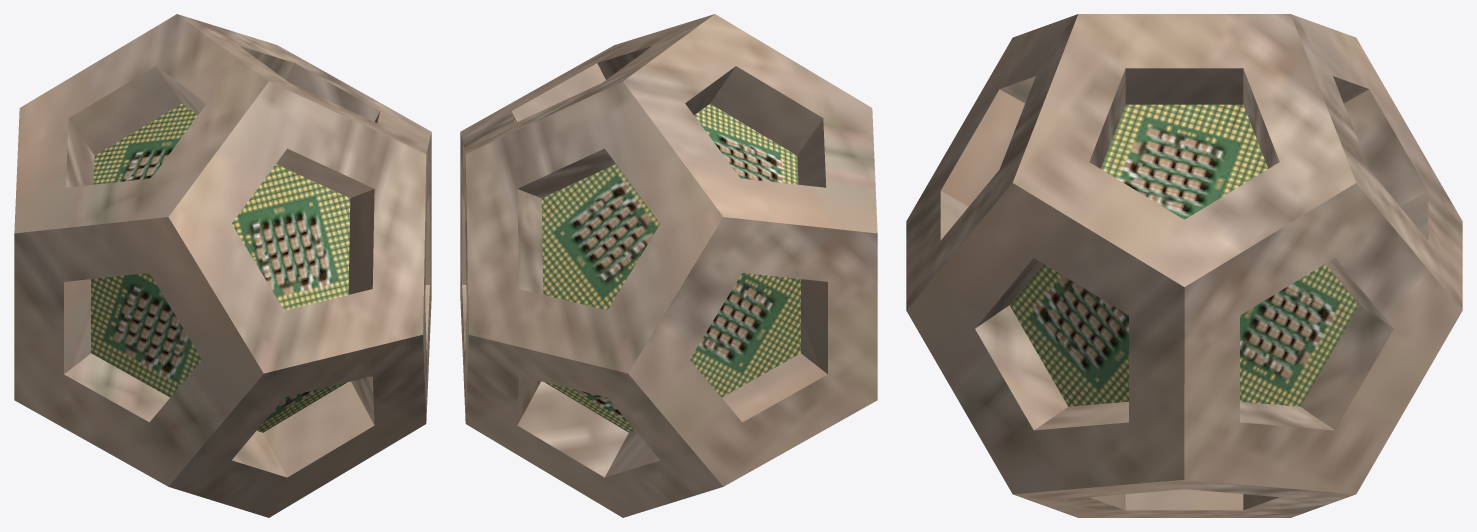
The model's file is dodecahedron_frame.fbx.
The picture shows the model from 3 angles, left to right: view 1: azimuth 30°, elevation 25°; view 2: azimuth 150°, elevation 25°; view 3: azimuth 270°, elevation 25°; orthographic projection. The views are drawn at different scales.
Parts seen in each view (by area): view 1: dodecahedron_frame; view 2: dodecahedron_frame; view 3: dodecahedron_frame.
Part boxes in pixels (x1,y1,x2,y2): dodecahedron_frame: (14, 14, 431, 517); dodecahedron_frame: (460, 14, 877, 517); dodecahedron_frame: (906, 14, 1462, 517).
Size of the model in its own units: 242 by 242 by 242.
